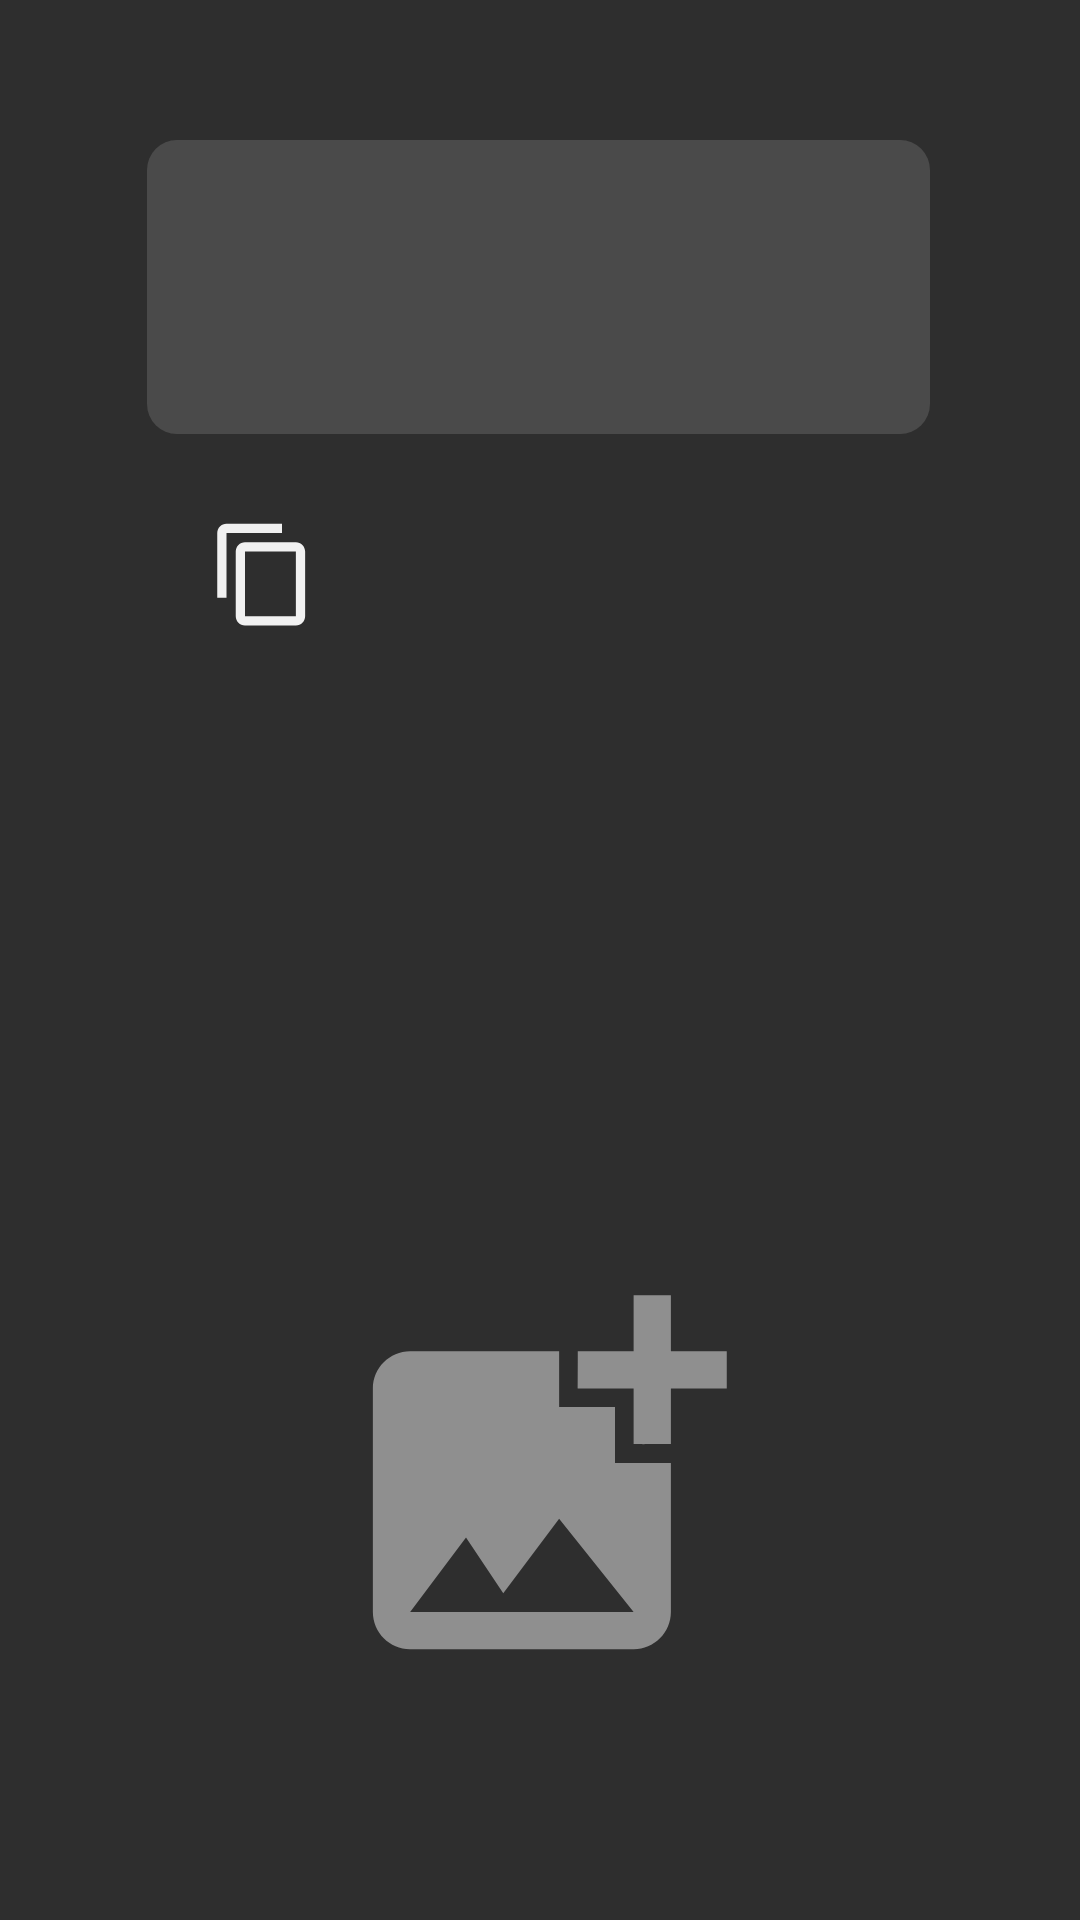

Icon bounding boxes for this 1080 × 1920 phone screenshot, format (x1, y1, x2, y2):
add photo alternate: (373, 1295, 727, 1650)
